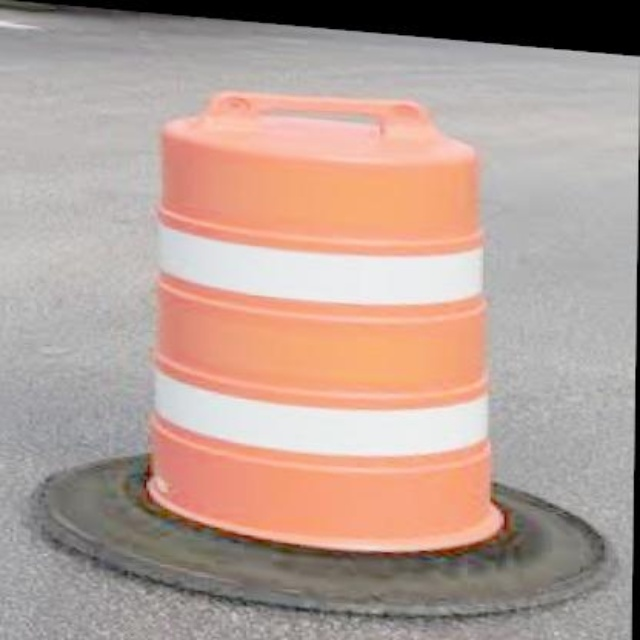obstacle: (144, 69, 517, 567)
